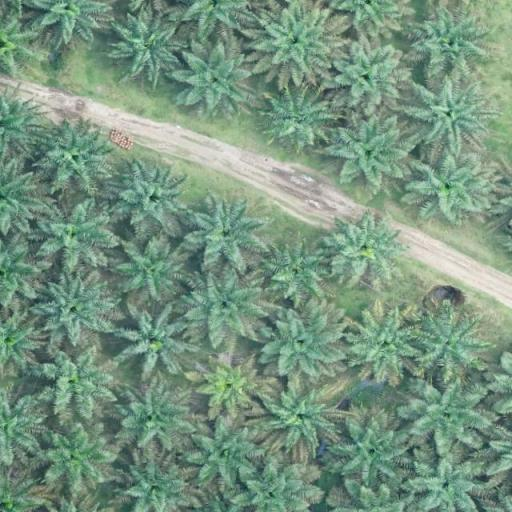Ganoderma: (207, 367, 251, 406)
